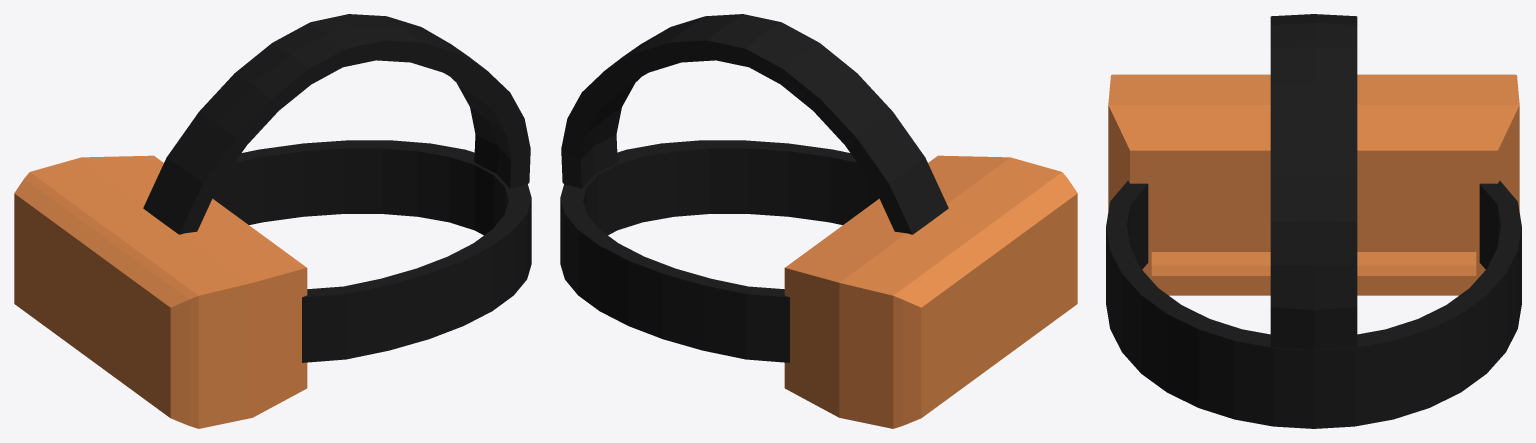
Rendered from VRHeadset.glb.
3 renders of one model, left to right at view 1: azimuth 30°, elevation 25°; view 2: azimuth 150°, elevation 25°; view 3: azimuth 270°, elevation 25°, orthographic. The views are drawn at different scales.
Parts seen in each view (by area): view 1: Cube, Cylinder, Cylinder.001; view 2: Cube, Cylinder, Cylinder.001; view 3: Cube, Cylinder, Cylinder.001.
Boxes of the visible parts, bbox=[...] form: Cube: bbox=[14, 155, 307, 428]; Cylinder: bbox=[212, 140, 531, 362]; Cylinder.001: bbox=[143, 14, 530, 234]; Cube: bbox=[784, 155, 1077, 428]; Cylinder: bbox=[560, 140, 879, 362]; Cylinder.001: bbox=[561, 14, 948, 234]; Cube: bbox=[1108, 74, 1519, 295]; Cylinder: bbox=[1106, 180, 1521, 428]; Cylinder.001: bbox=[1270, 14, 1357, 349].
Bounding box in the file's own units: 6.7 × 4.24 × 4.72.
